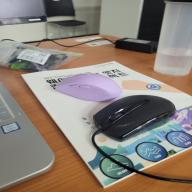mouse: (70, 92, 182, 139), (52, 70, 124, 102)
